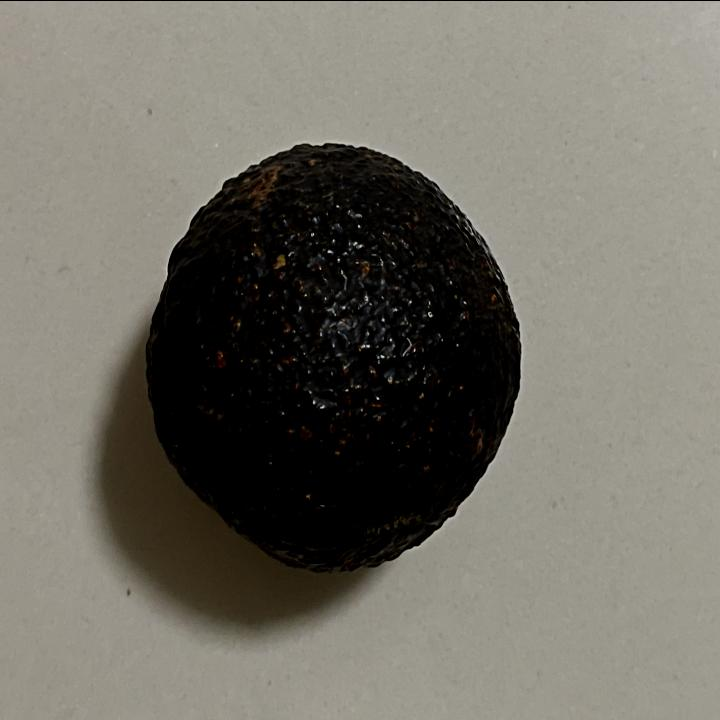Level2: (141, 131, 530, 580)
